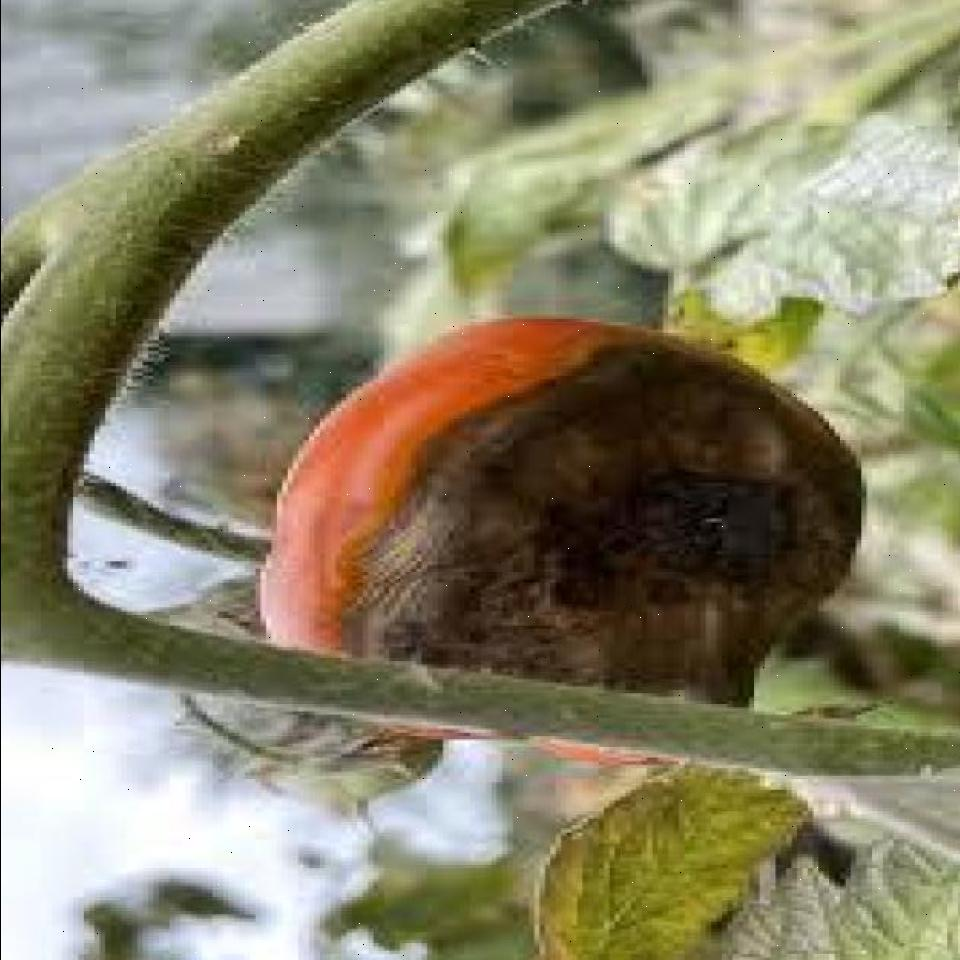Blossom_end_rot: (324, 341, 860, 739)
